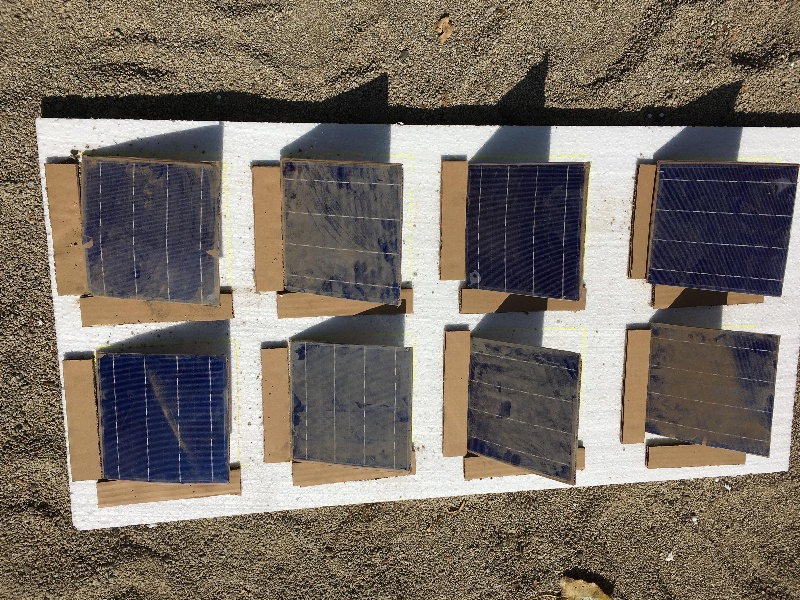clean: (642, 154, 796, 294), (93, 350, 229, 483), (458, 163, 585, 302)
dirty: (86, 151, 226, 298), (279, 155, 405, 307), (467, 337, 580, 490), (286, 341, 414, 476), (647, 326, 778, 454)
